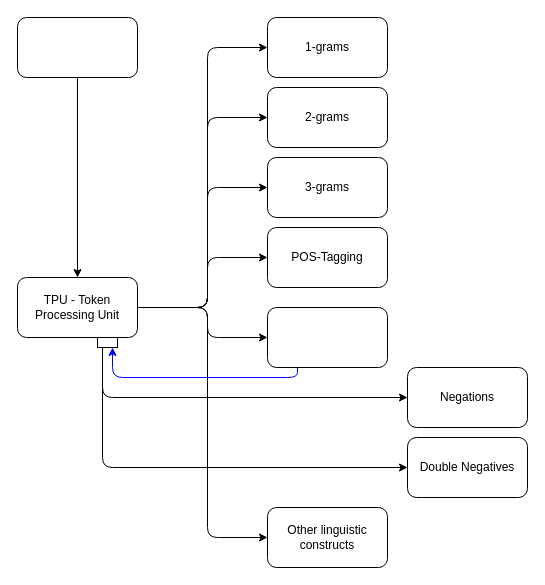
The diagram is 545 pixels wide and 585 high, and some of its shapes have lost their labels. Each missing label, with the box of its shape:
ADU Tokens: (16, 16, 138, 78)
Sentence Segmentation: (266, 306, 388, 368)
